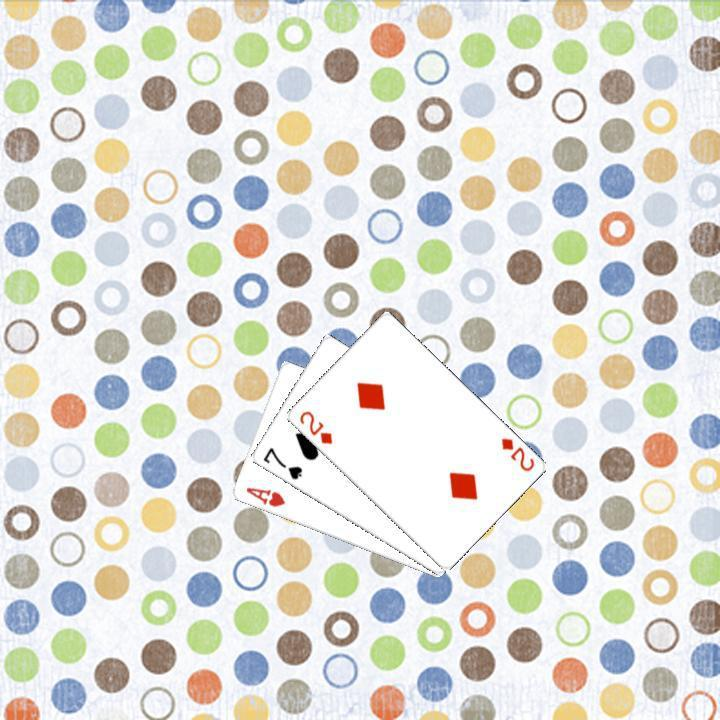2: (496, 434, 536, 474), (295, 406, 334, 446)
7: (258, 443, 304, 482)
A: (241, 483, 287, 509)
